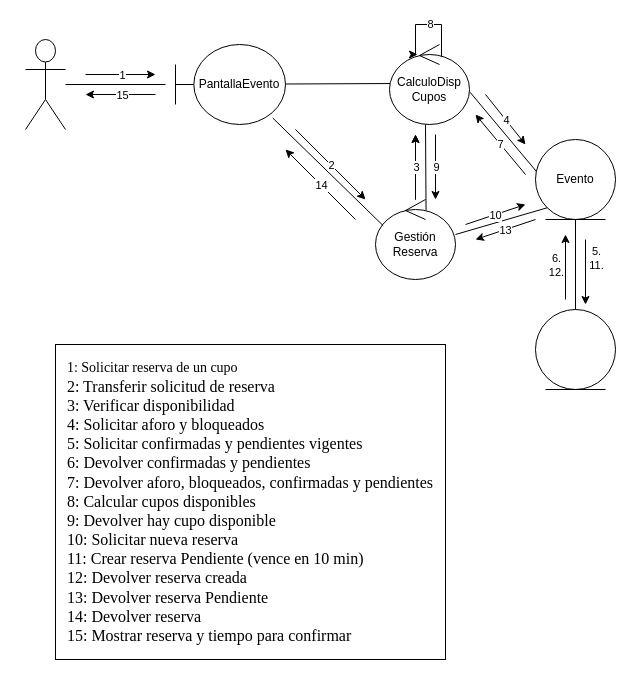
The diagram is 633 pixels wide and 677 high, and some of its shapes have lost their labels. Each missing label, with the centre of its shape:
"Estudiante" goes at point 45,84.
"Reserva" goes at point 575,349.
